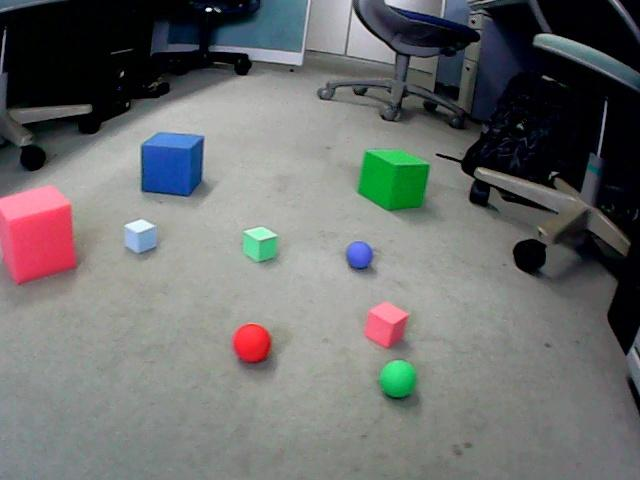blue_block: (141, 133, 203, 195), (124, 219, 157, 253)
red_block: (0, 186, 76, 283), (365, 302, 408, 347)
